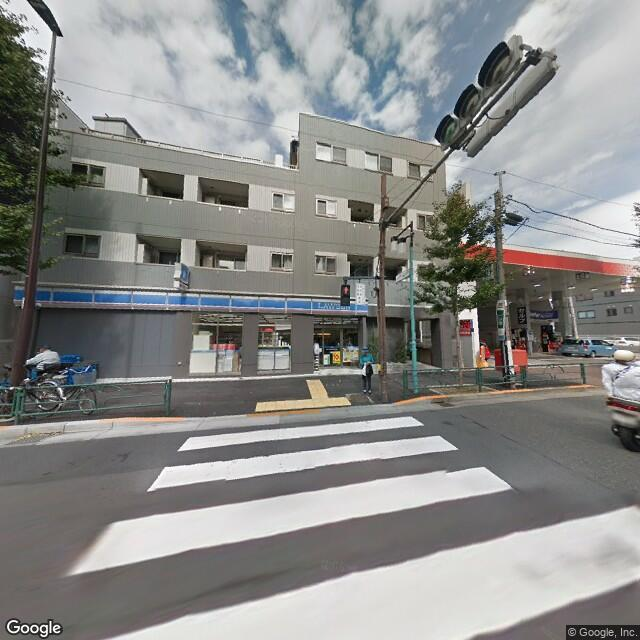lawson: (18, 283, 373, 322)
